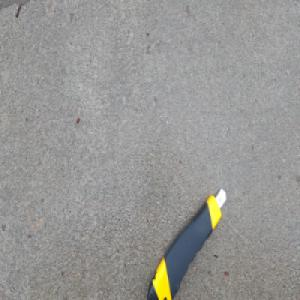Cutter: (145, 186, 227, 300)
